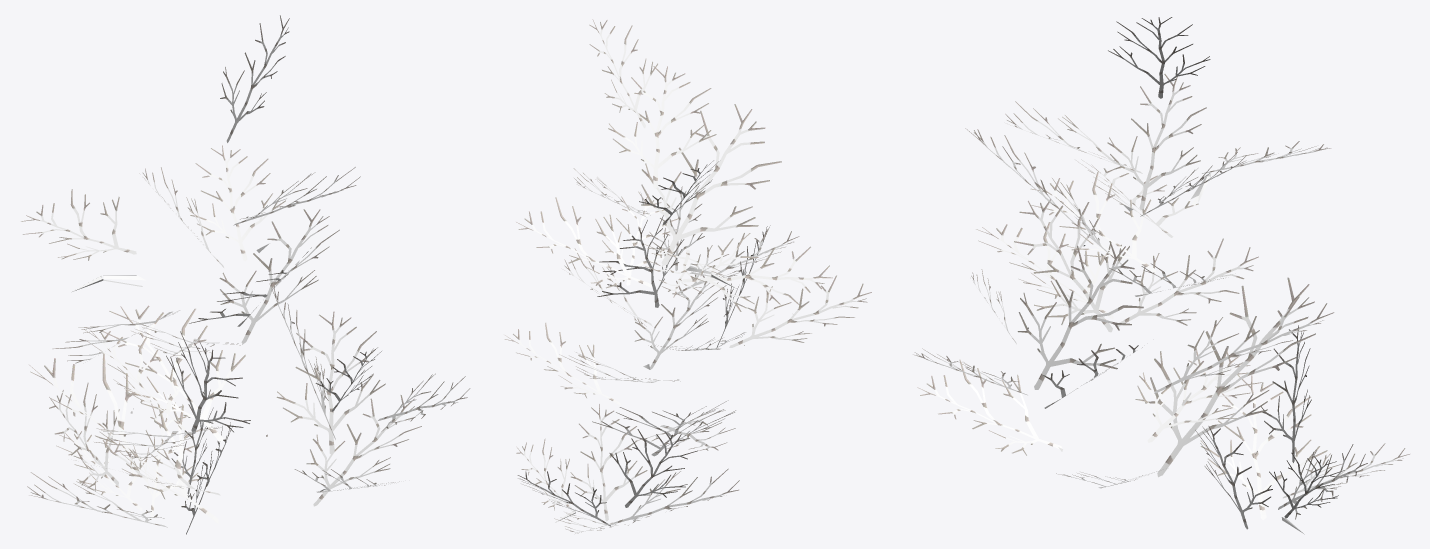
File: tree_far_bare.glb
3 renders of one model, left to right at view 1: azimuth 30°, elevation 25°; view 2: azimuth 150°, elevation 25°; view 3: azimuth 270°, elevation 25°, orthographic. The views are drawn at different scales.
Visible parts, largest first — view 1: SM_Env_Tree_Birch_01_Branches_LOD2; view 2: SM_Env_Tree_Birch_01_Branches_LOD2; view 3: SM_Env_Tree_Birch_01_Branches_LOD2.
Part boxes in pixels (x1,y1,x2,y2): SM_Env_Tree_Birch_01_Branches_LOD2: (21,15,470,534); SM_Env_Tree_Birch_01_Branches_LOD2: (504,19,871,533); SM_Env_Tree_Birch_01_Branches_LOD2: (913,17,1409,529).
Bounding box in the file's own units: 7.27 × 9.78 × 8.25.
Materials: 2 (2 with a texture image).
